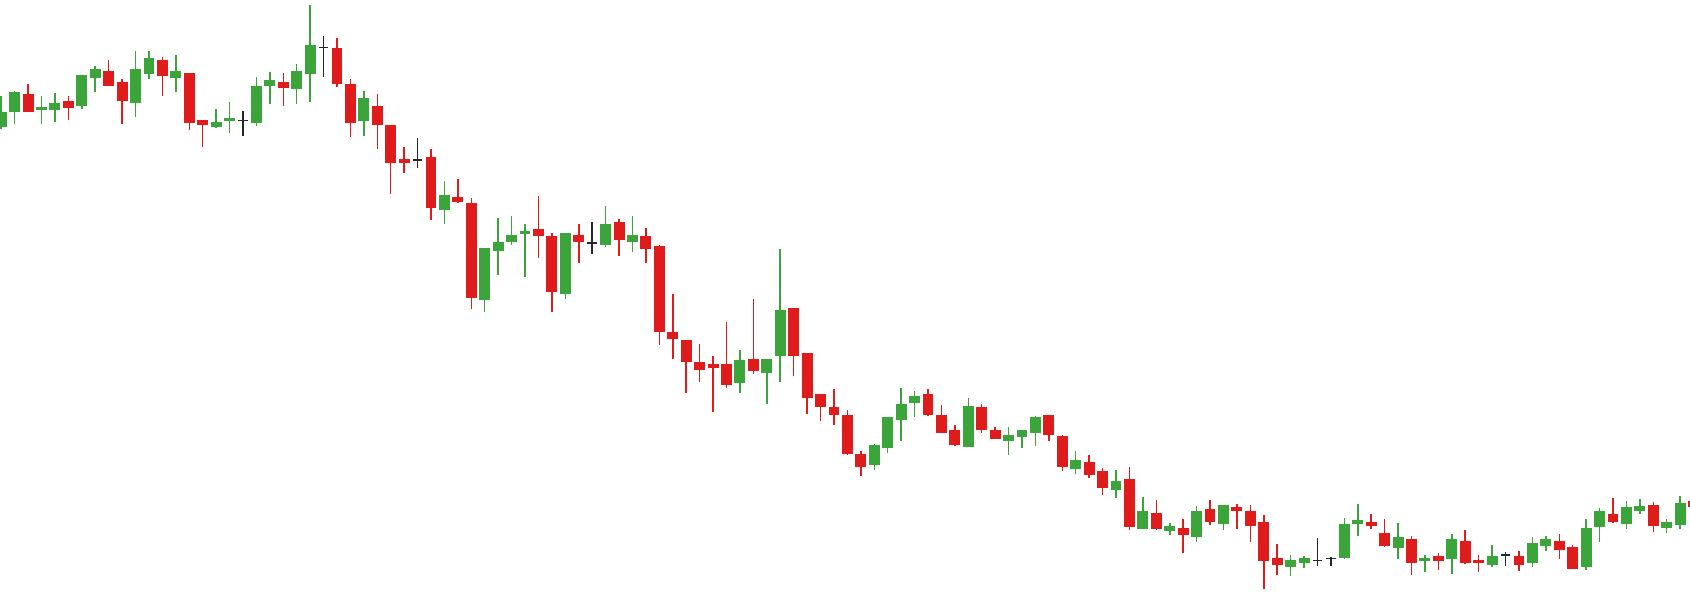sell: (144, 5, 343, 114)
